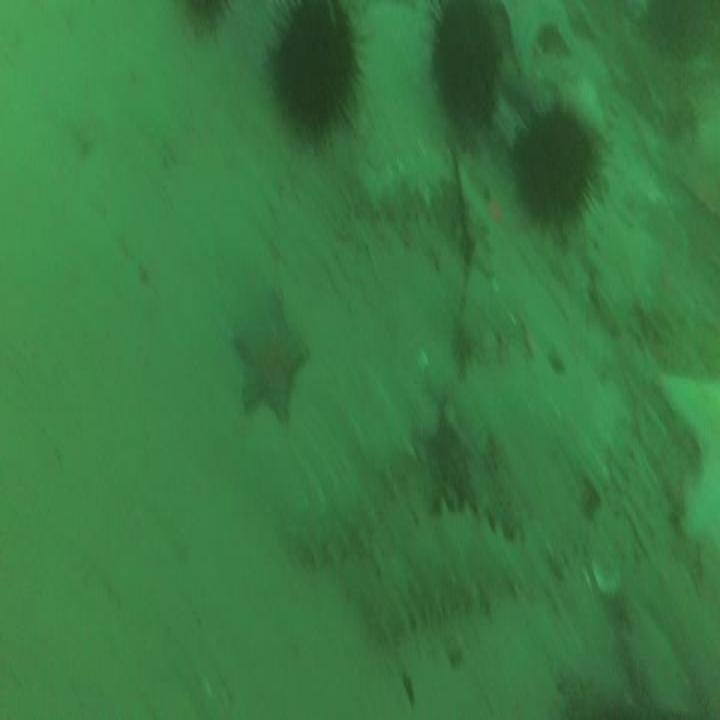echinus: (267, 0, 357, 135), (511, 108, 593, 224), (430, 3, 498, 137)
holothurian: (366, 505, 525, 647), (278, 463, 385, 566), (355, 150, 458, 212)
scallop: (593, 551, 620, 599)
starfish: (232, 297, 306, 423)
